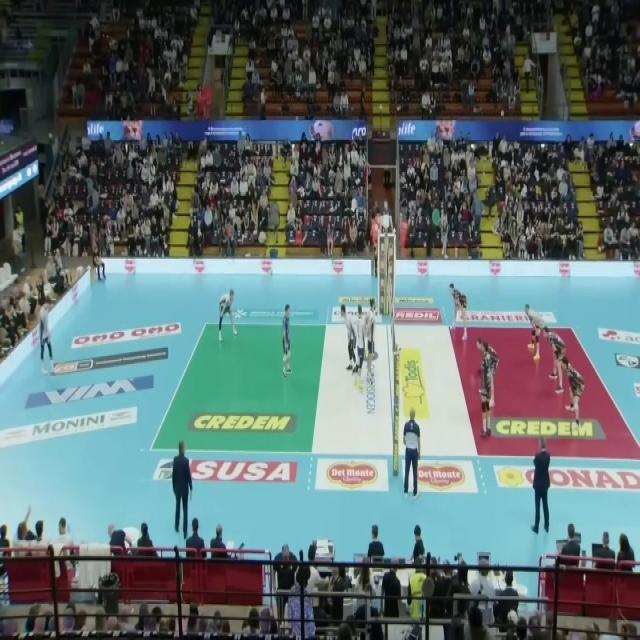volleyball court: (147, 324, 639, 454)
